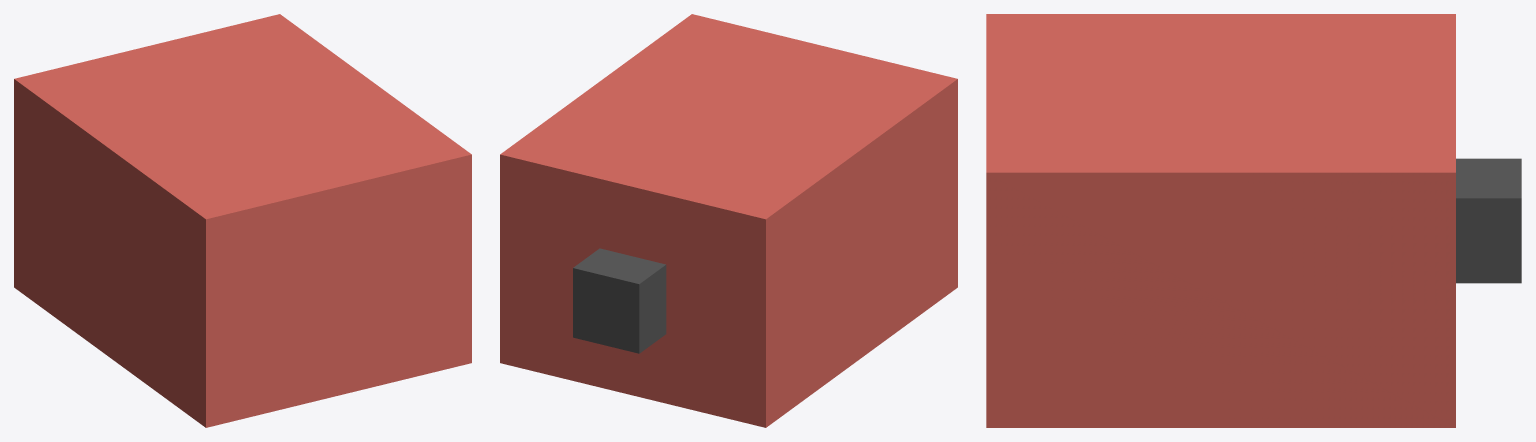
Rendered from fuel_canister.glb.
3 views of the same model, side by side, from view 1: azimuth 30°, elevation 25°; view 2: azimuth 150°, elevation 25°; view 3: azimuth 270°, elevation 25° (orthographic). The views are drawn at different scales.
Parts seen in each view (by area): view 1: can; view 2: can, cap; view 3: can, cap.
Boxes of the visible parts, x1=… form: can: x1=14, y1=14, x2=471, y2=427; can: x1=500, y1=14, x2=957, y2=427; cap: x1=573, y1=248, x2=666, y2=353; can: x1=986, y1=14, x2=1455, y2=427; cap: x1=1456, y1=158, x2=1521, y2=283.
Bounding box in the file's own units: 0.3999 × 0.2998 × 0.57.
